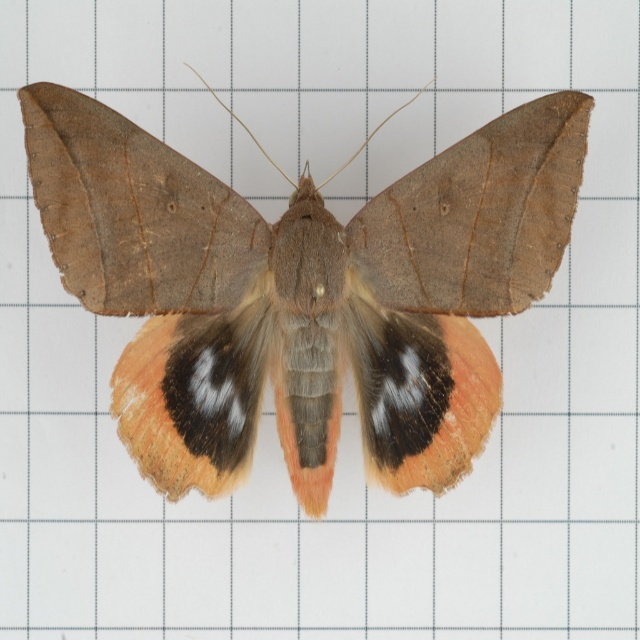Butterfly: (56, 81, 549, 518)
